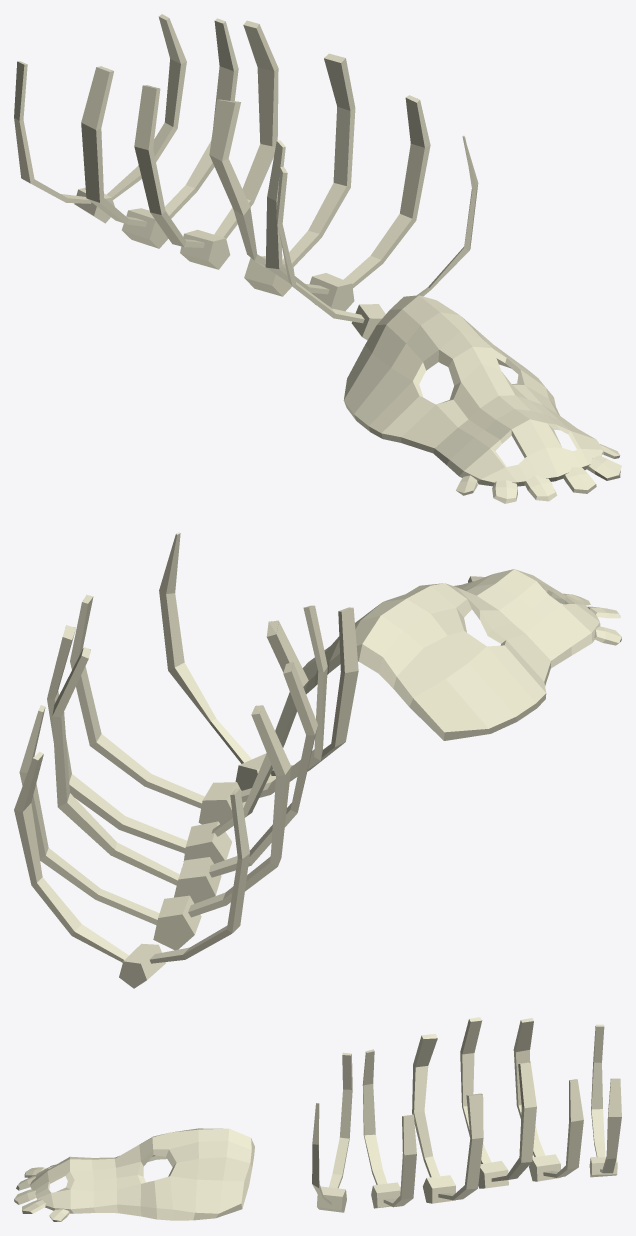
The model's file is skull.fbx.
3 views of the same model, one above another, from view 1: azimuth 30°, elevation 25°; view 2: azimuth 150°, elevation 25°; view 3: azimuth 270°, elevation 25° (orthographic). The views are drawn at different scales.
Parts seen in each view (by area): view 1: ribs, skull; view 2: ribs, skull; view 3: ribs, skull.
Part boxes in pixels (x1=…): ribs: x1=14, y1=14, x2=478, y2=340; skull: x1=343, y1=295, x2=621, y2=503; ribs: x1=14, y1=532, x2=358, y2=988; skull: x1=302, y1=569, x2=621, y2=740; ribs: x1=312, y1=1017, x2=621, y2=1212; skull: x1=14, y1=1128, x2=254, y2=1221.
Size of the model in its own units: 392 by 290 by 1033.
